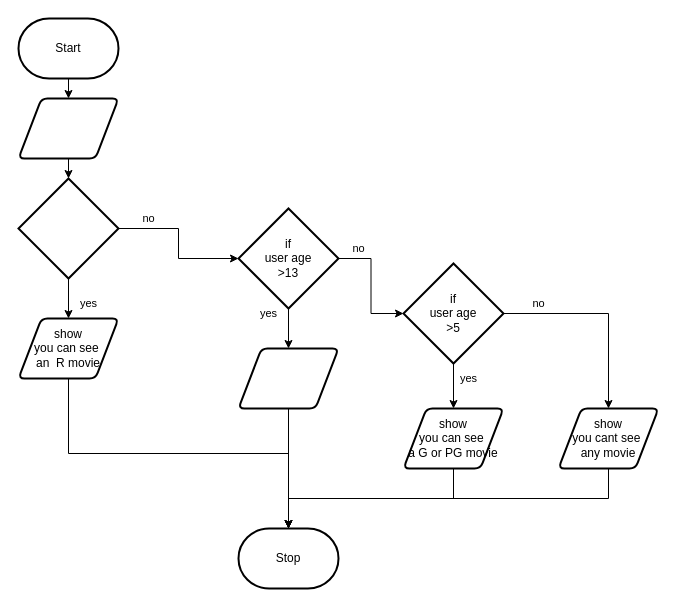
Image size: 676x606. Some labels were removed from this diagram. Each missing label, with the box of its shape:
get user age: (17, 97, 119, 159)
if user age >17: (17, 177, 119, 279)
show you can see a PG 13 movie: (237, 347, 339, 409)
